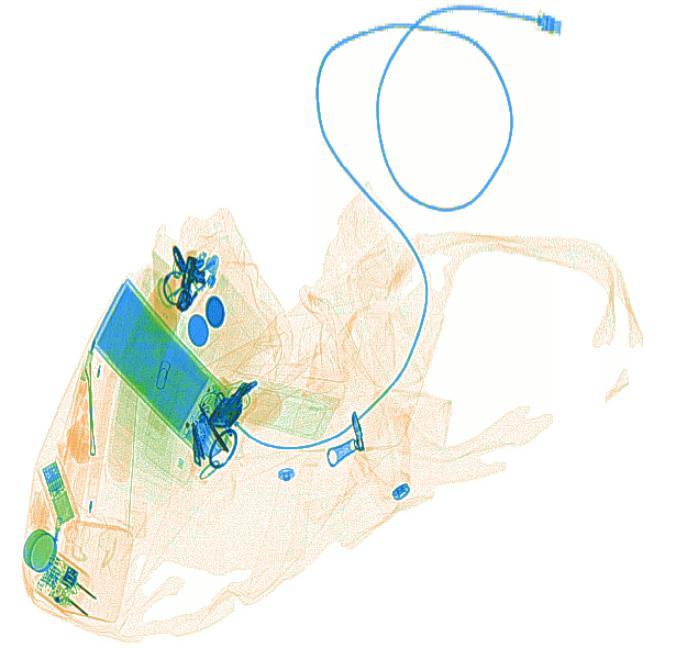USBFlashDisk: (40, 459, 74, 524)
